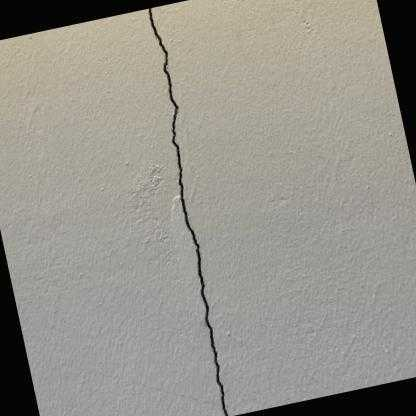crack: (148, 7, 228, 416)
